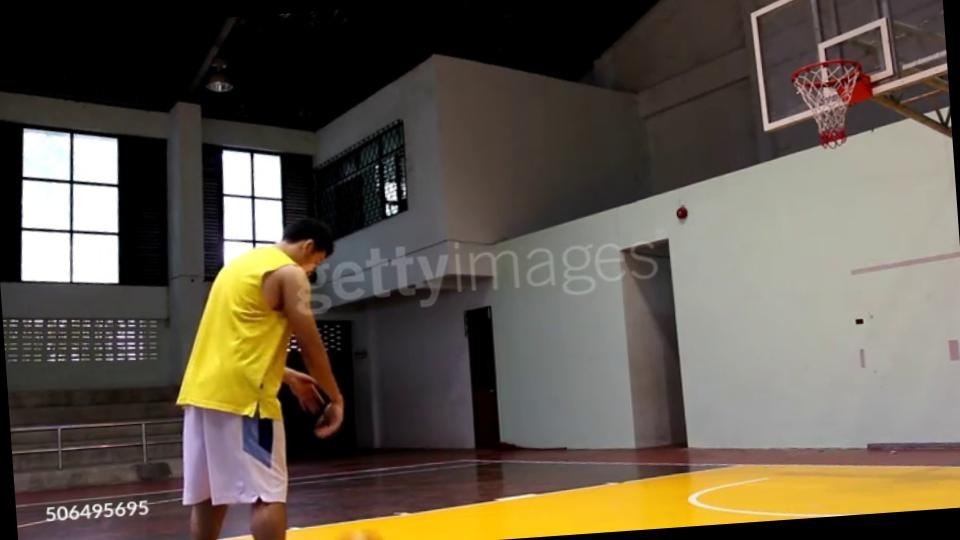hoop: (786, 56, 865, 100)
